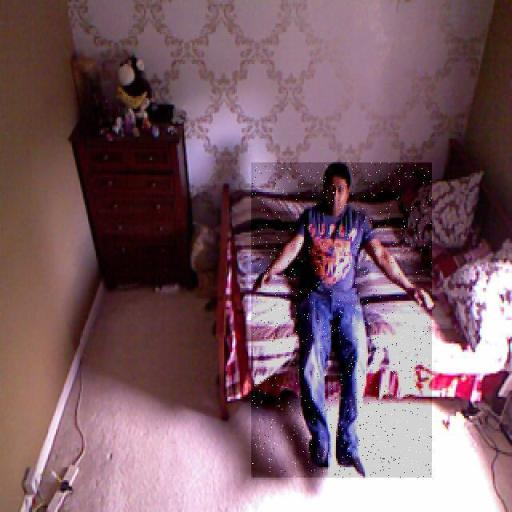Fall: (251, 163, 432, 478)
